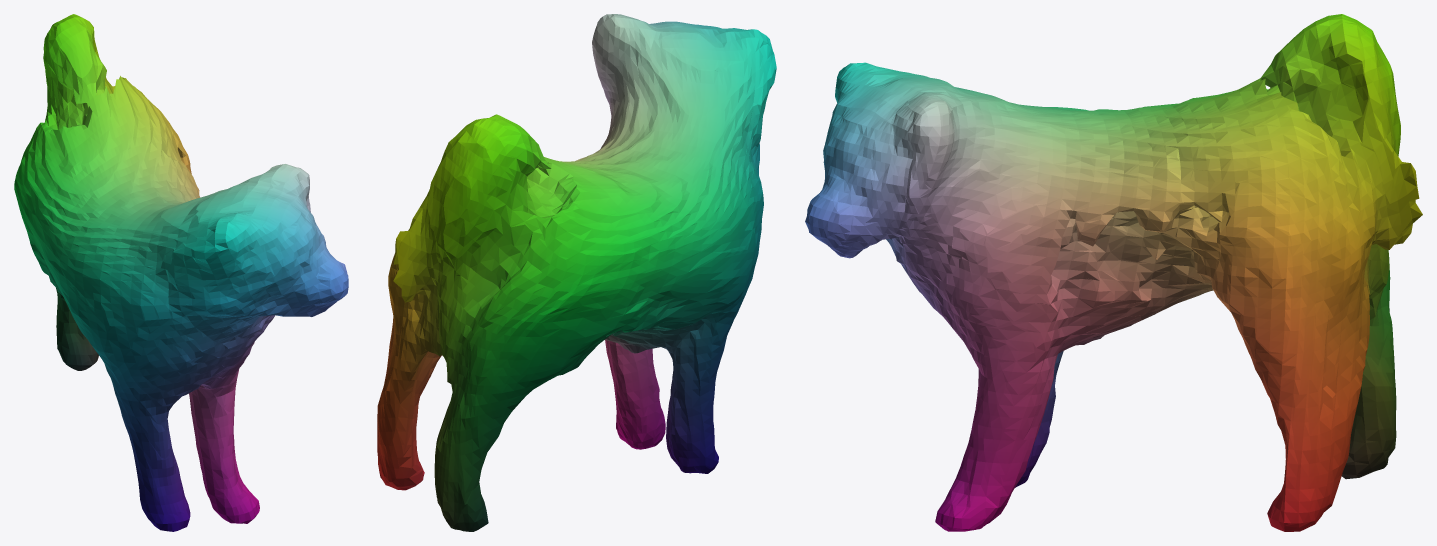
Rendered from shiba-haru-1001-mesh-00001.obj.
3 renders of one model, left to right at view 1: azimuth 30°, elevation 25°; view 2: azimuth 150°, elevation 25°; view 3: azimuth 270°, elevation 25°, orthographic. The views are drawn at different scales.
Size of the model in its own units: 0.0568 by 0.0988 by 0.1102.
